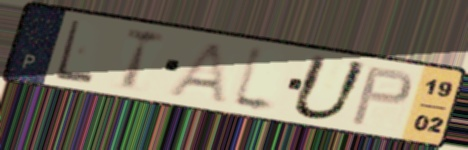A: (163, 41, 230, 107)
L: (227, 41, 281, 119), (53, 17, 97, 86)
P: (347, 64, 416, 128)
T: (121, 25, 170, 93)
U: (286, 51, 373, 123)
